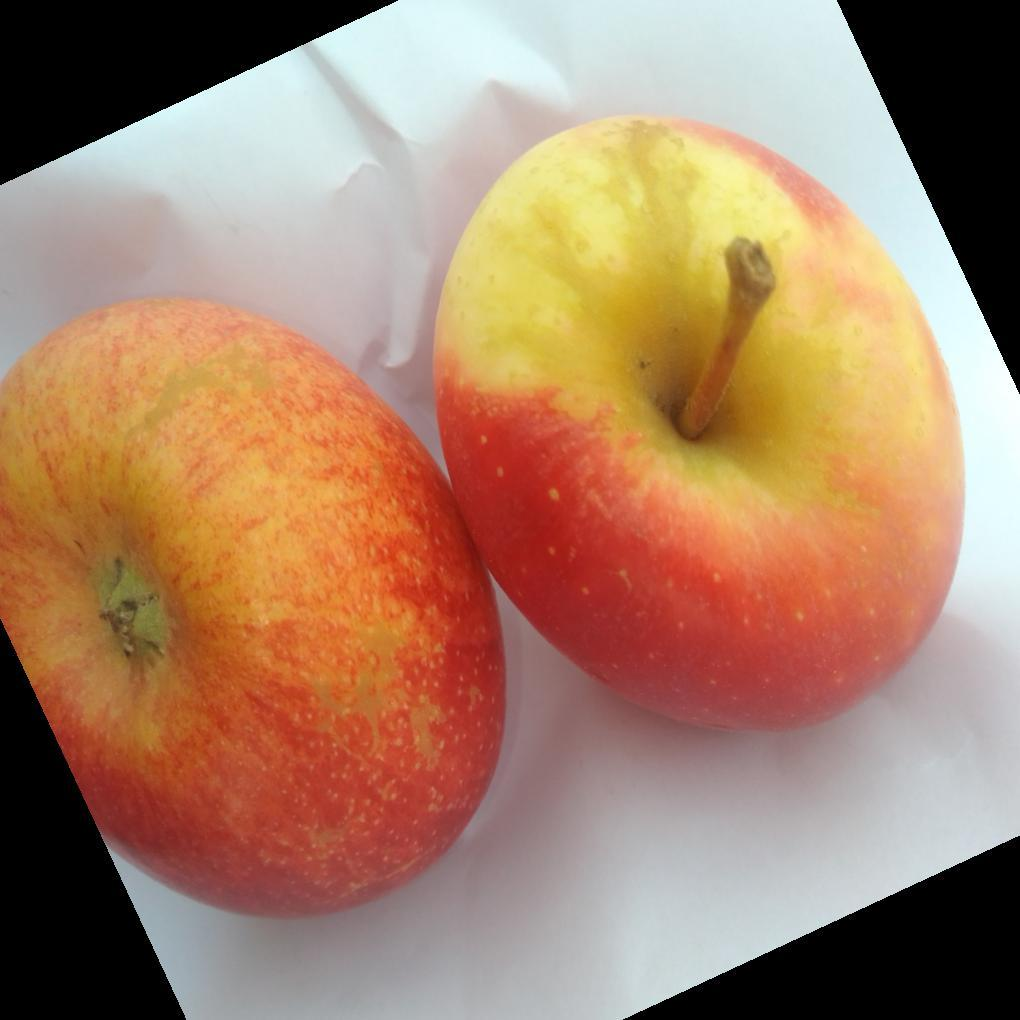FreshGuava: (0, 114, 966, 923)
